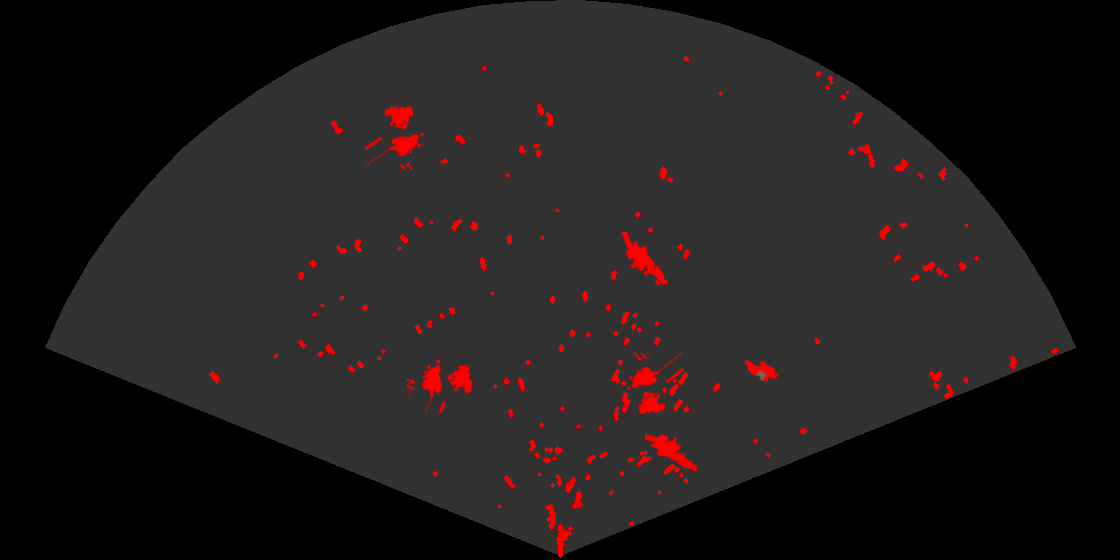AUV: (743, 358, 780, 383)
cage: (365, 104, 426, 170), (625, 353, 684, 416), (407, 358, 474, 413)
frogman: (619, 232, 669, 287), (645, 432, 700, 473)
